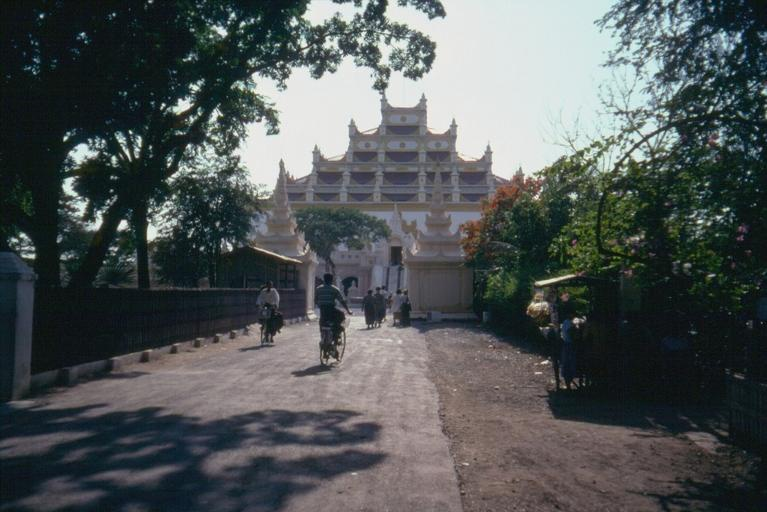non-vehicle: (318, 309, 350, 366), (257, 303, 275, 344)
